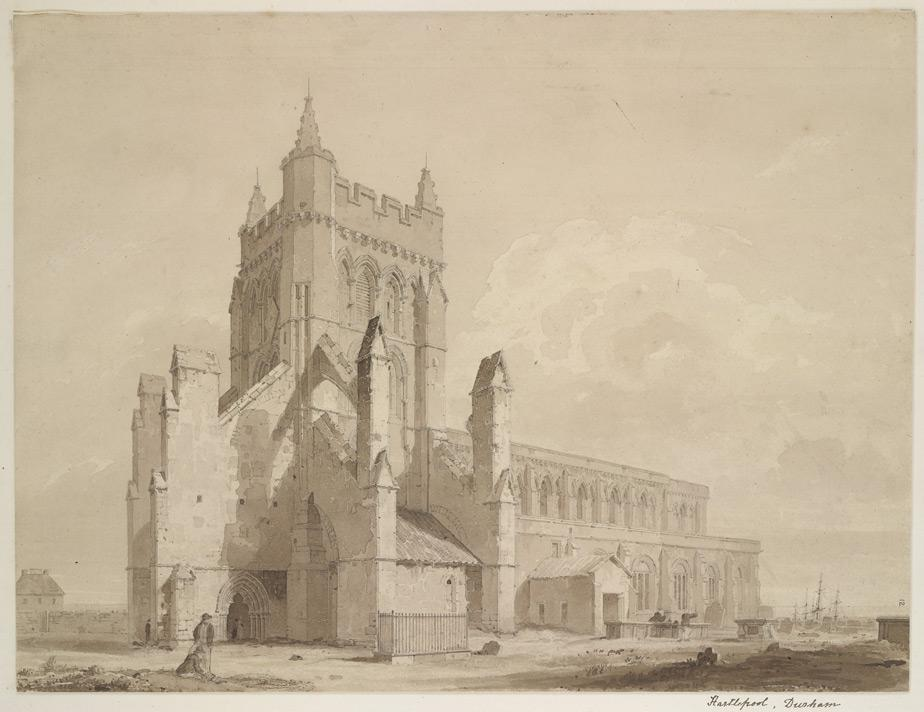person: (192, 611, 216, 673), (176, 647, 208, 681)
